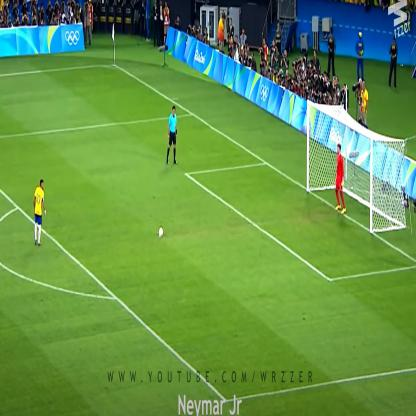penalty kick: (25, 99, 392, 270)
